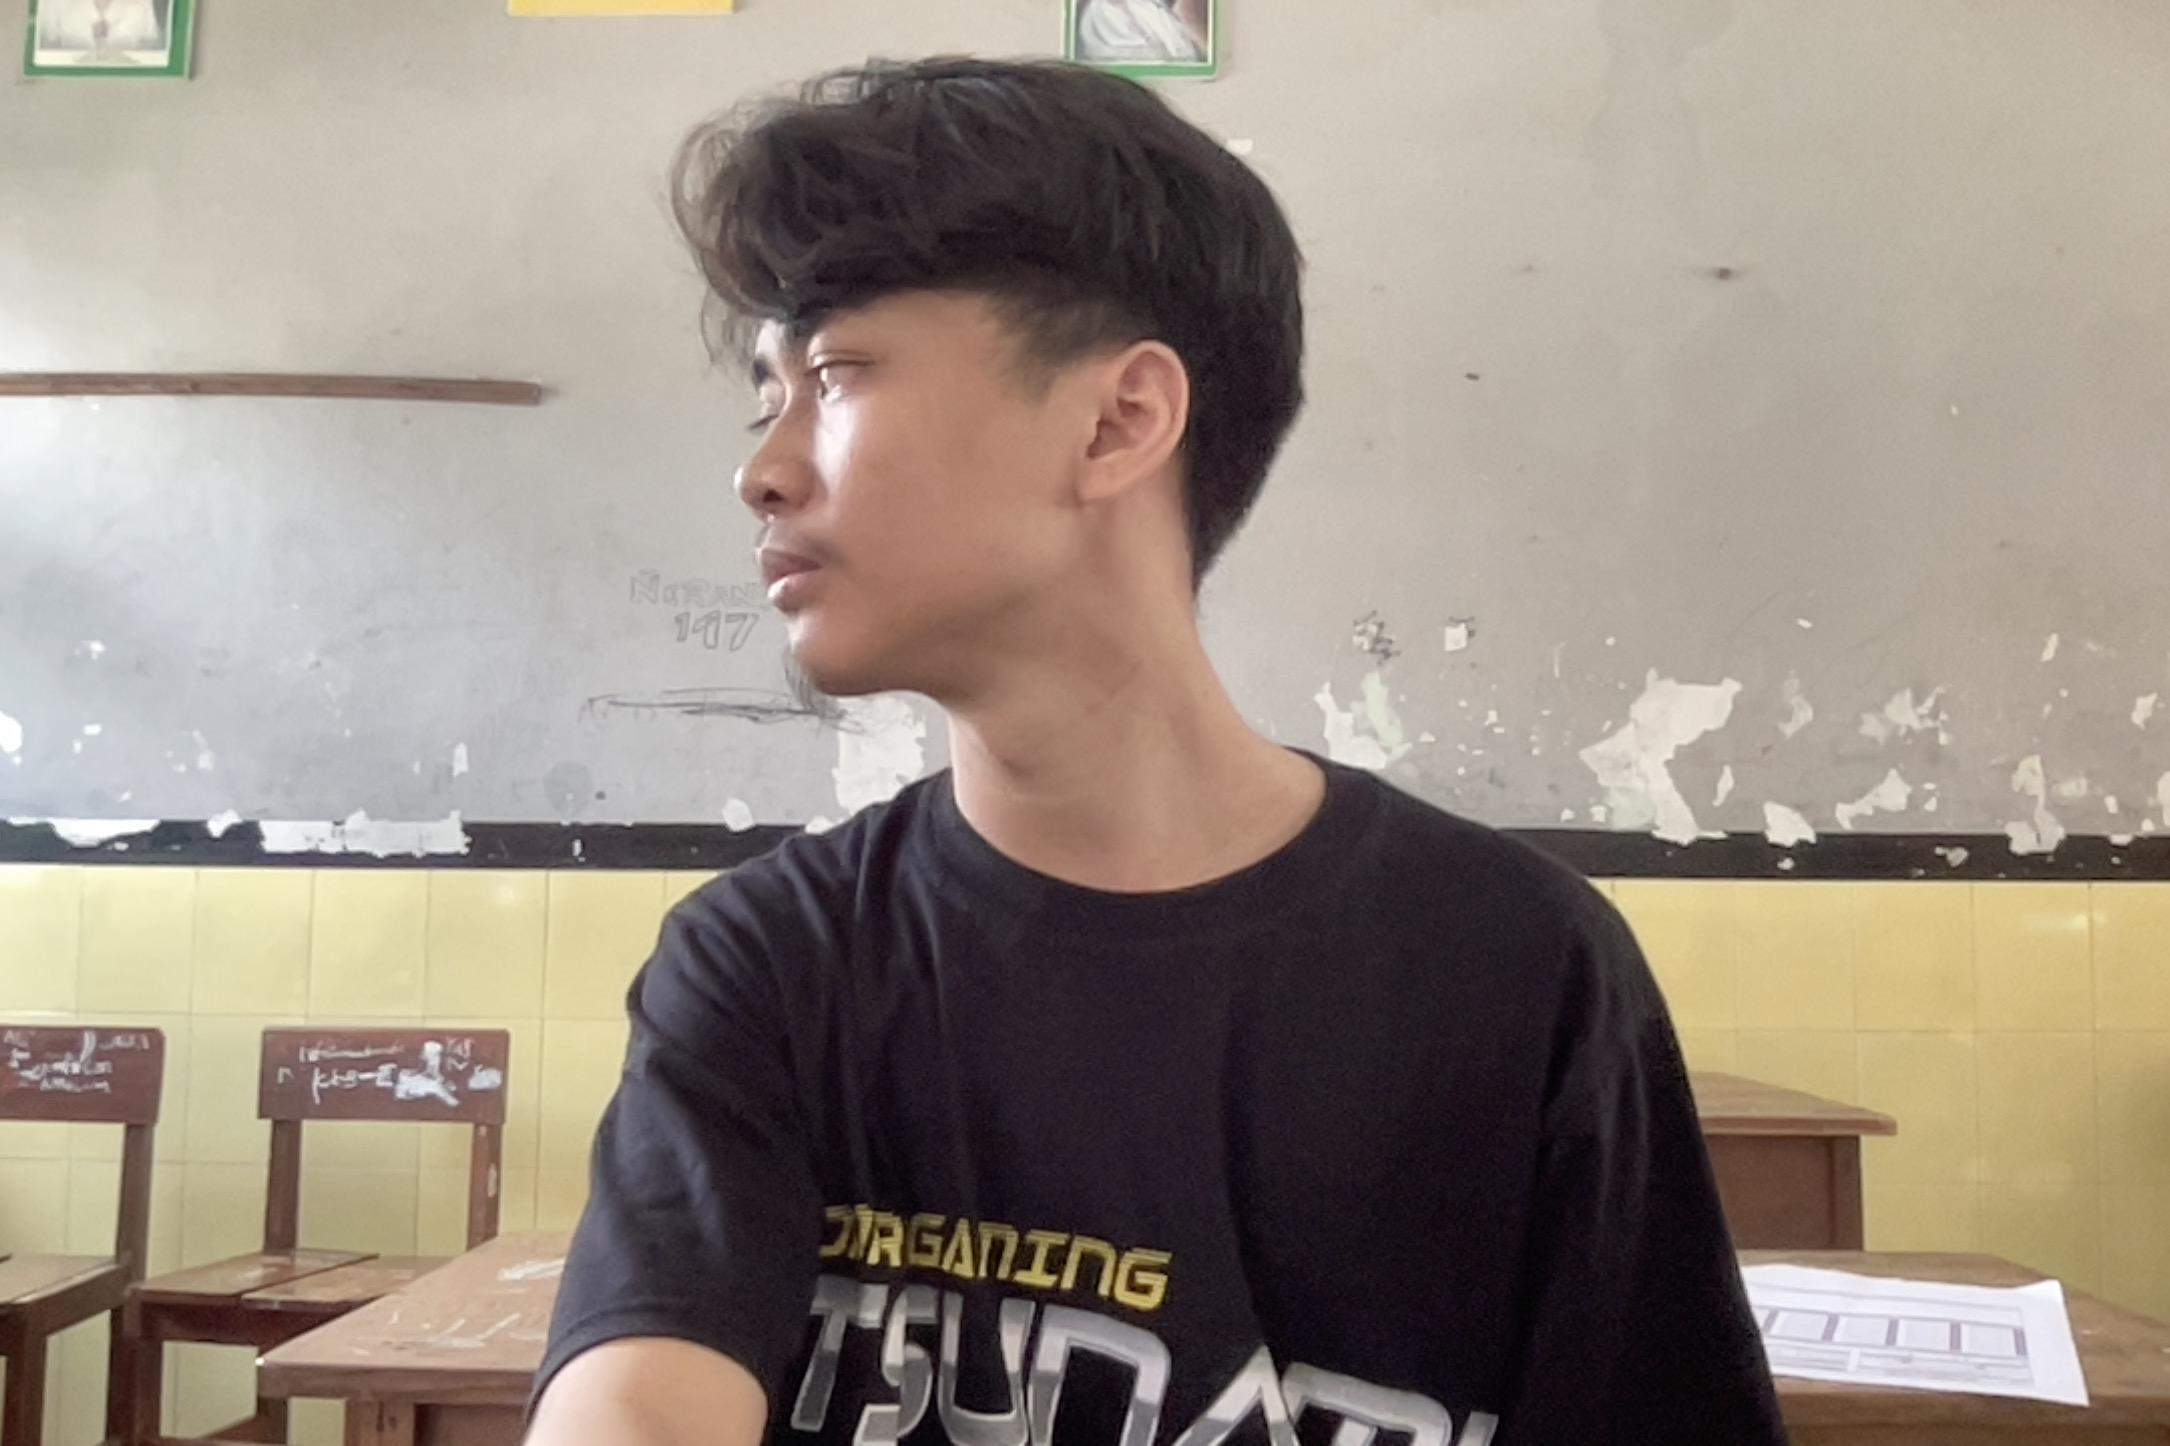cheating: (511, 58, 1823, 1446)
